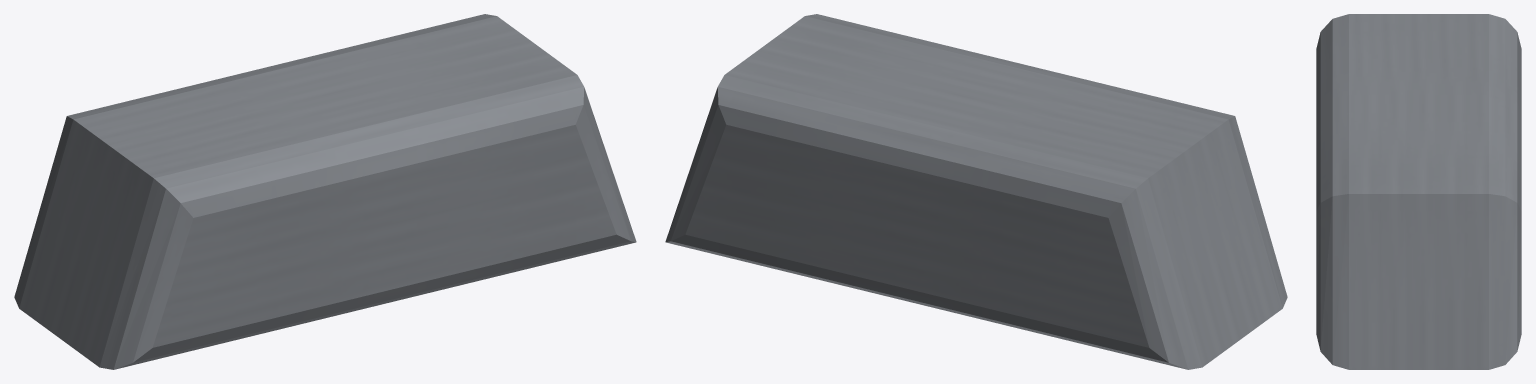
The model's file is bar.glb.
The picture shows the model from 3 angles, left to right: view 1: azimuth 30°, elevation 25°; view 2: azimuth 150°, elevation 25°; view 3: azimuth 270°, elevation 25°; orthographic projection. The views are drawn at different scales.
Visible parts, largest first — view 1: bar; view 2: bar; view 3: bar.
Part boxes in pixels (<box>): bar: <box>14,14,636,369</box>; bar: <box>665,14,1287,369</box>; bar: <box>1316,14,1521,369</box>.
Bounding box in the file's own units: 0.195 × 0.0616 × 0.075.
Materials: 1 (1 with a texture image).
